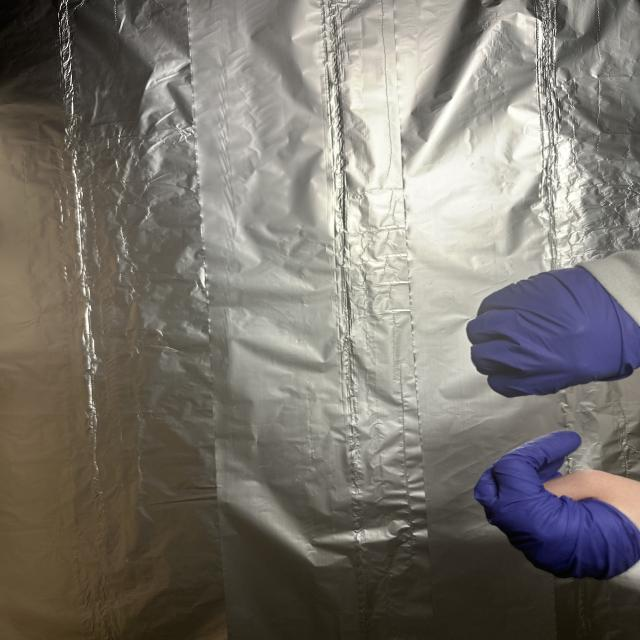glove_partial: (474, 430, 640, 582), (462, 261, 640, 399)
